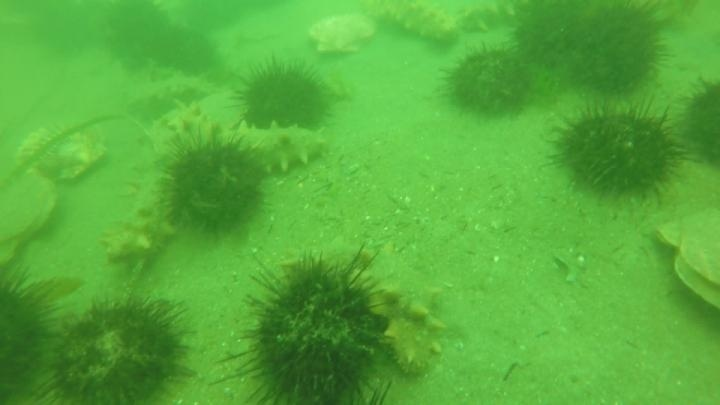echinus: (233, 245, 394, 405), (39, 288, 196, 405), (515, 1, 673, 102), (546, 97, 689, 208), (157, 133, 270, 244), (1, 259, 73, 396), (232, 56, 334, 136), (440, 42, 540, 121), (509, 2, 604, 71), (101, 1, 173, 66), (146, 22, 219, 79), (678, 75, 720, 169), (29, 3, 97, 59)
holothurian: (349, 238, 450, 378), (156, 124, 294, 226), (158, 102, 332, 178), (100, 133, 184, 273), (144, 99, 226, 166), (125, 69, 220, 122), (363, 1, 461, 47), (454, 1, 528, 37)
scallop: (8, 116, 112, 188), (661, 202, 720, 322), (1, 168, 60, 263), (305, 9, 379, 59)
